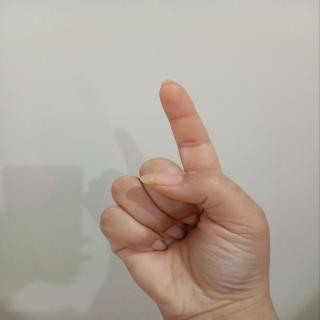BAA: (86, 77, 279, 320)
